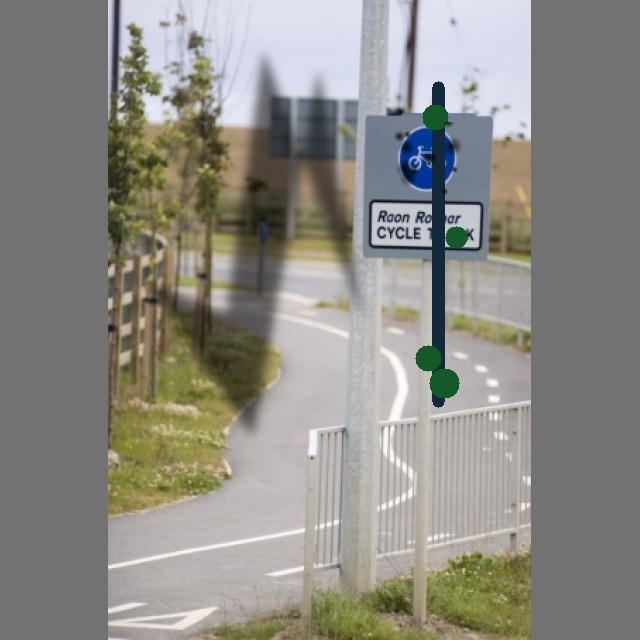Compulsory_Cycle_Track: (392, 122, 462, 198)
